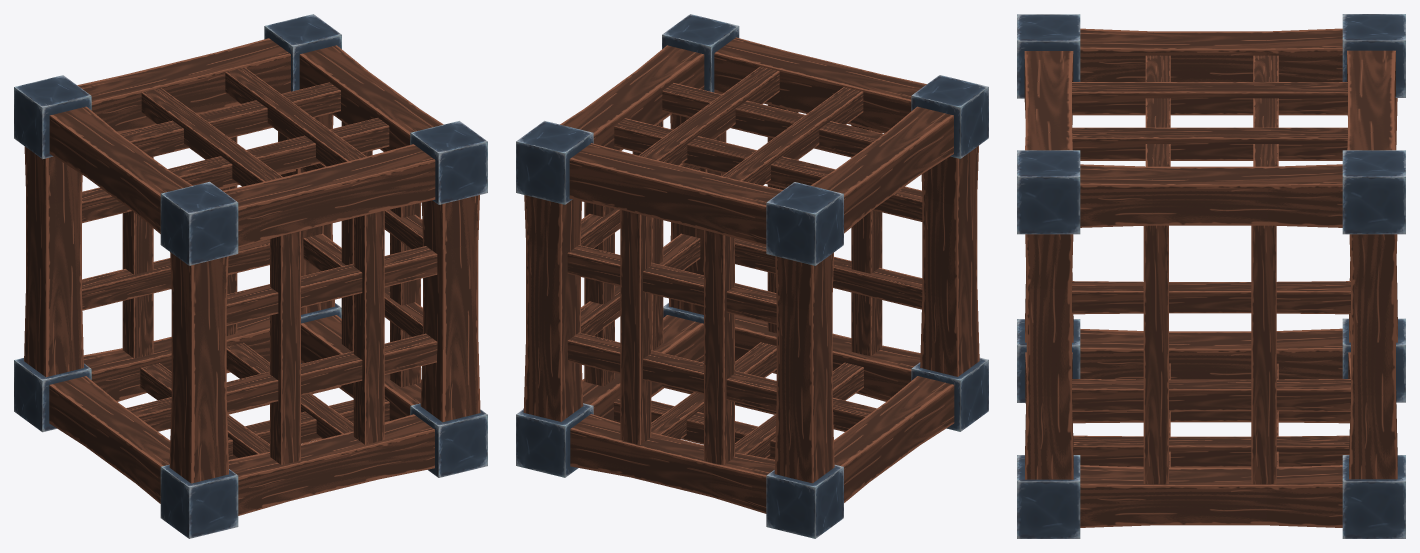
The model's file is Wood_cage.fbx.
3 renders of one model, left to right at view 1: azimuth 30°, elevation 25°; view 2: azimuth 150°, elevation 25°; view 3: azimuth 270°, elevation 25°, orthographic. The views are drawn at different scales.
Visible parts, largest first — view 1: Wood_cage; view 2: Wood_cage; view 3: Wood_cage.
Boxes of the visible parts, x1,y1,x2,y2 form: Wood_cage: [14, 14, 487, 538]; Wood_cage: [516, 14, 988, 538]; Wood_cage: [1017, 14, 1405, 538].
Bounding box in the file's own units: 1.55 × 1.6 × 1.56.
